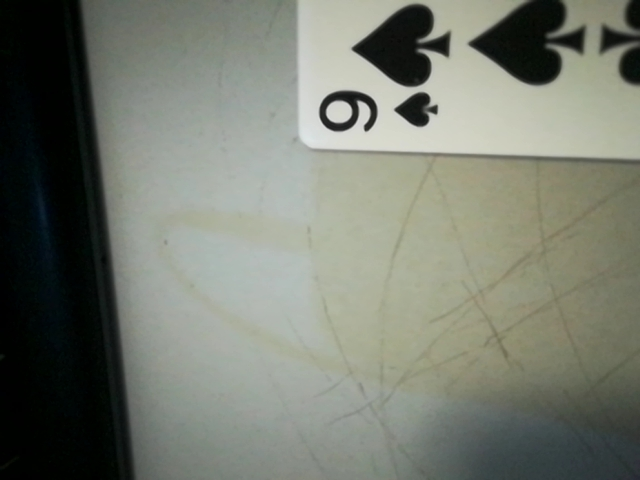ht 9: (300, 71, 448, 150)
